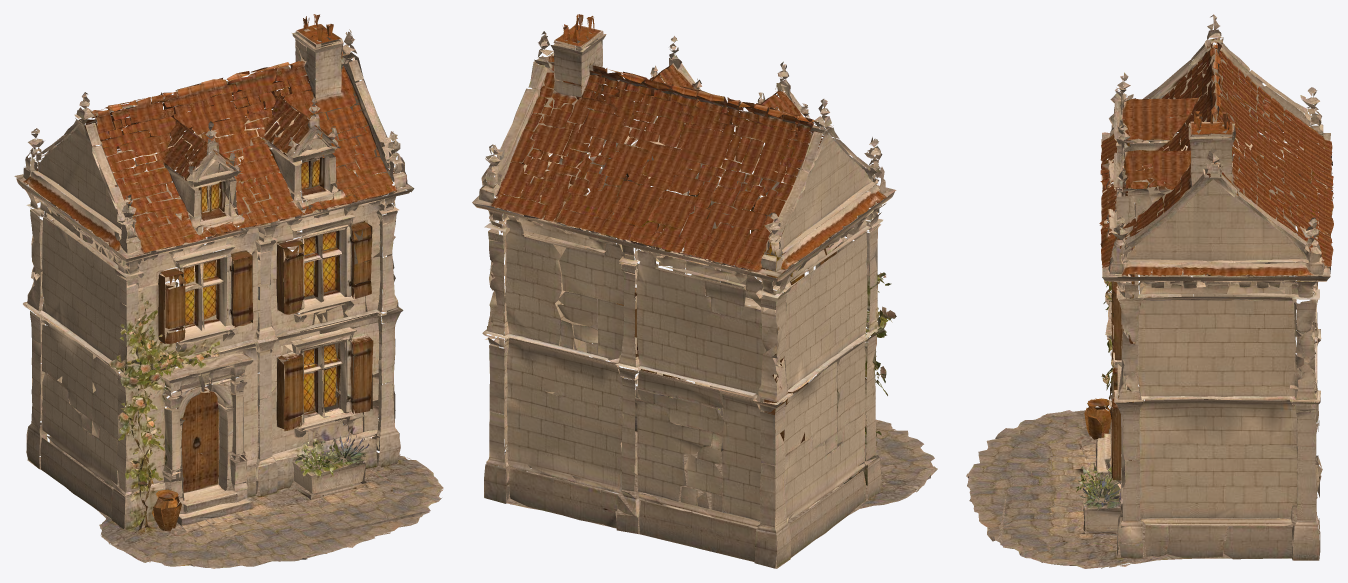
The model's file is maison2.glb.
The picture shows the model from 3 angles, left to right: view 1: azimuth 30°, elevation 25°; view 2: azimuth 150°, elevation 25°; view 3: azimuth 270°, elevation 25°; orthographic projection. The views are drawn at different scales.
Parts seen in each view (by area): view 1: maison2; view 2: maison2; view 3: maison2.
Part boxes in pixels (box(x1,y1,x2,y2)): maison2: box(14, 14, 443, 568); maison2: box(472, 14, 937, 568); maison2: box(966, 14, 1333, 568).
Size of the model in its own units: 8.39 by 10.72 by 8.26.
Materials: 1 (1 with a texture image).
